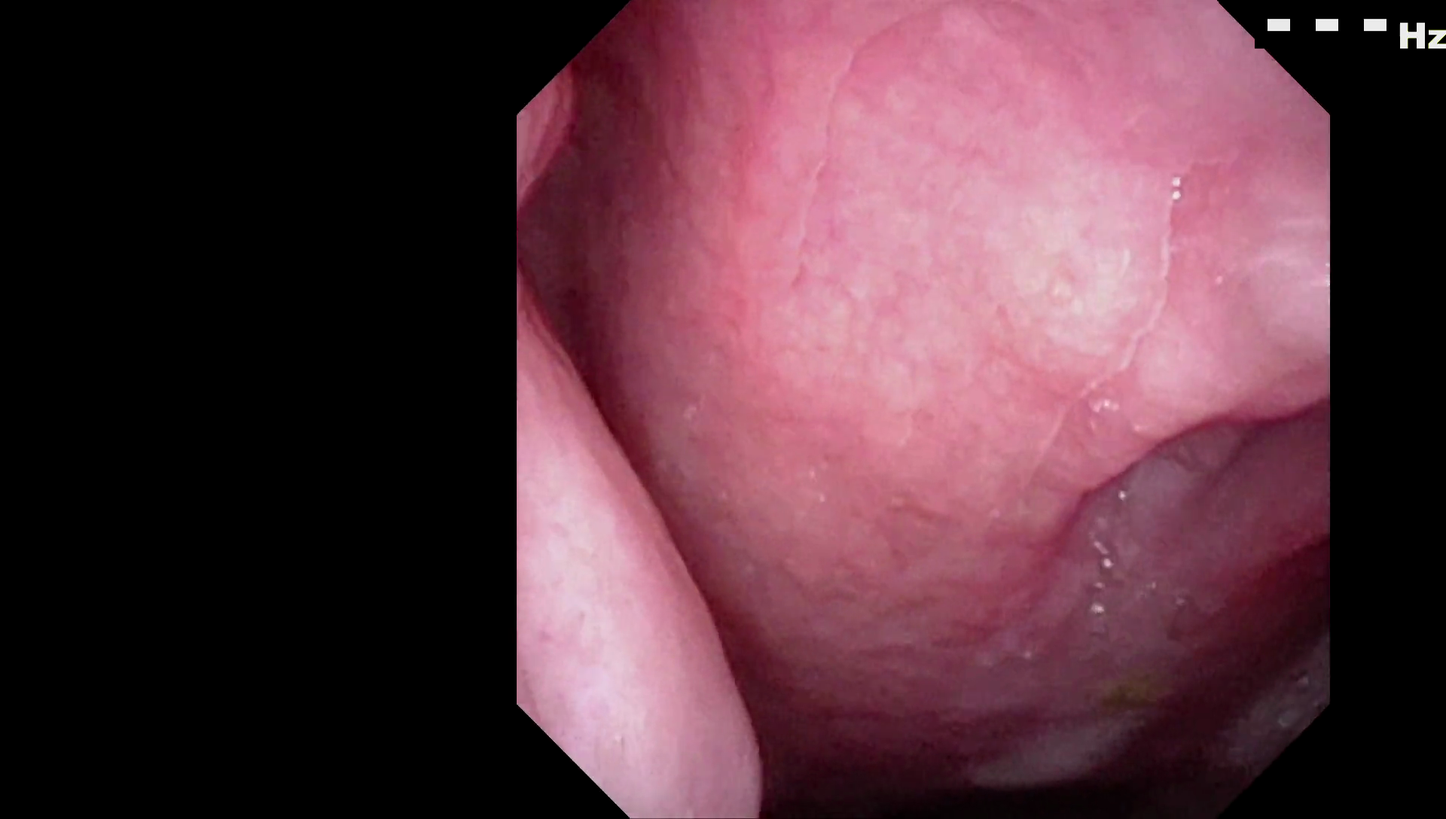close_wall: (724, 49, 1254, 492), (527, 370, 780, 806)
next: (727, 668, 1250, 819)
